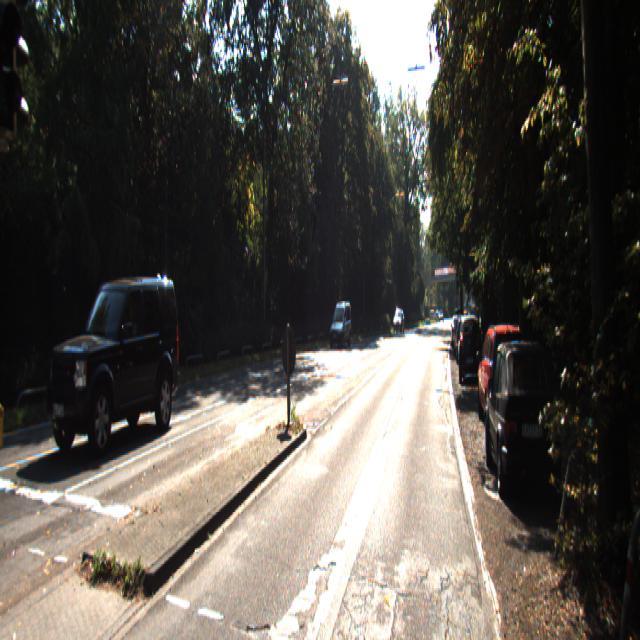Car: (47, 268, 184, 464), (486, 330, 568, 510), (476, 314, 533, 440), (458, 310, 482, 382), (328, 300, 352, 350)
